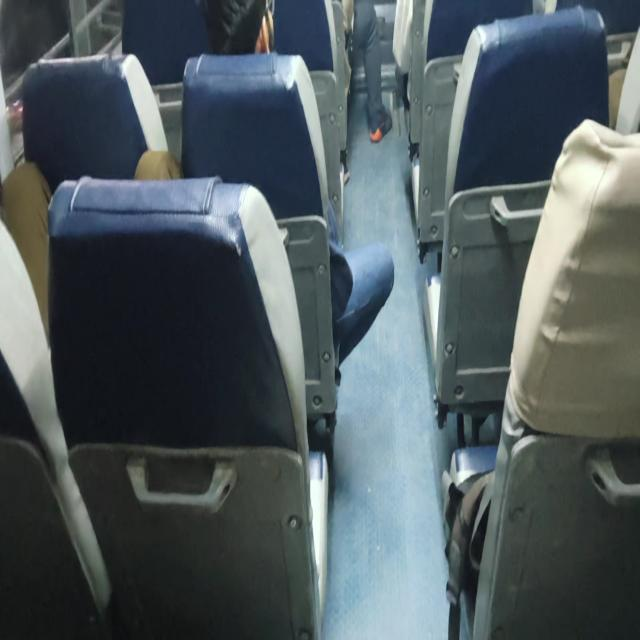person: (133, 51, 395, 378), (342, 0, 393, 143), (206, 0, 273, 55)
